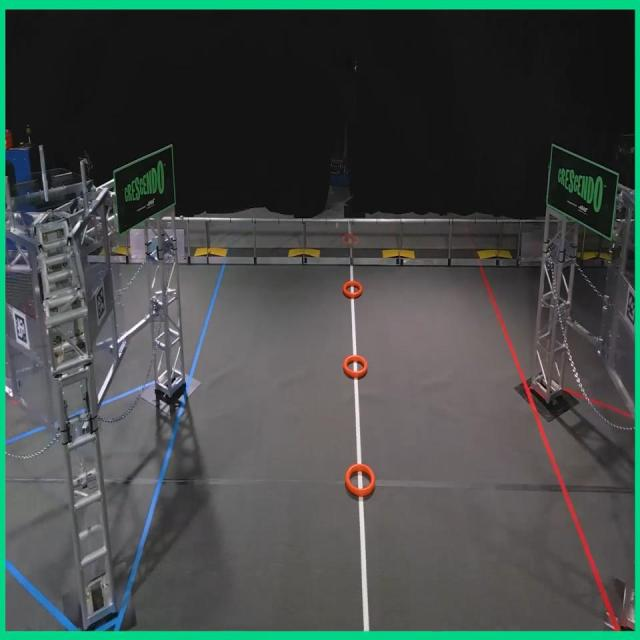note: (346, 463, 376, 496), (343, 356, 368, 380), (343, 280, 364, 299)
